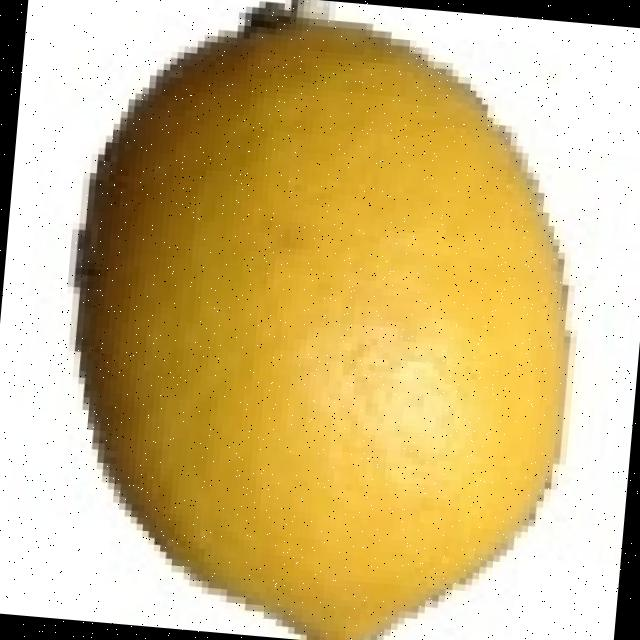lemon: (77, 8, 566, 640)
